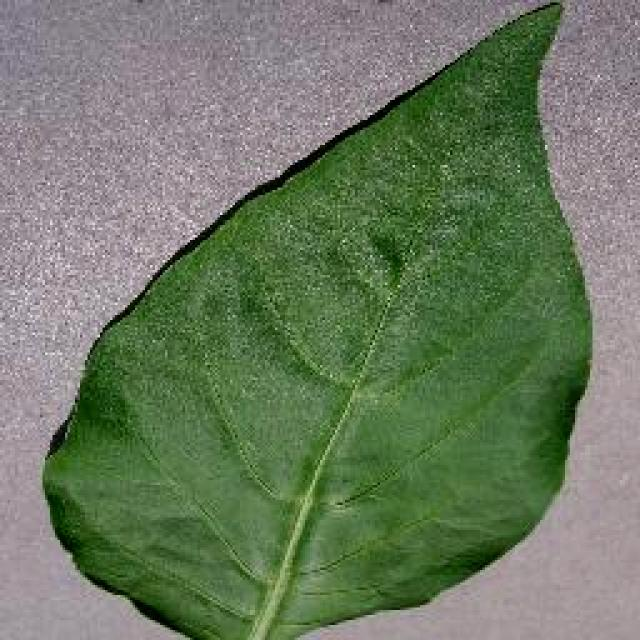Leaf: (43, 0, 596, 635)
